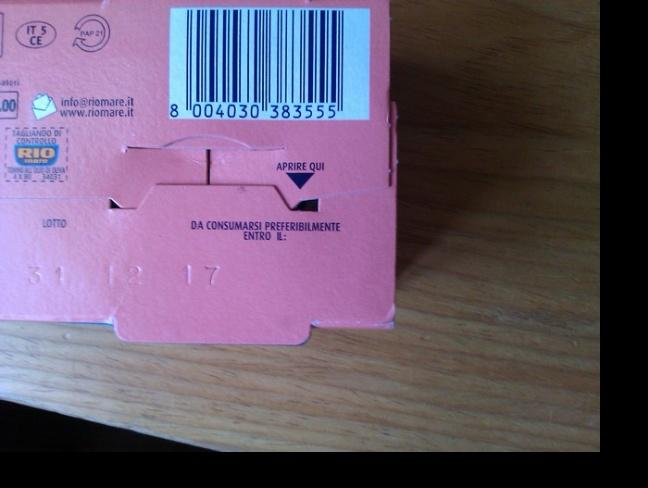Barcode: (167, 6, 370, 119)
